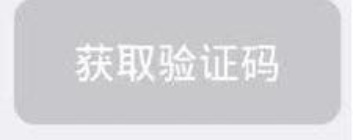Button: (1, 1, 352, 139)
